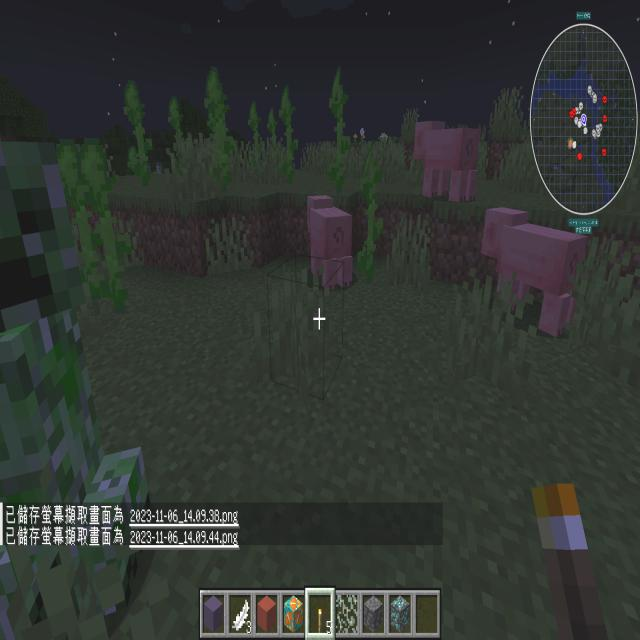Creeper: (0, 107, 162, 639)
pig: (478, 196, 598, 364), (402, 102, 482, 208), (296, 186, 362, 298)
